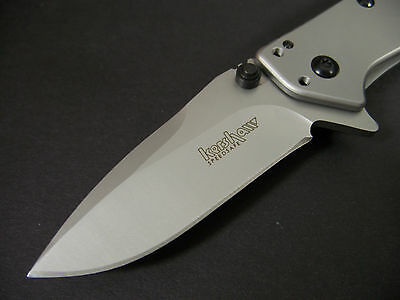knief: (24, 3, 394, 282)
